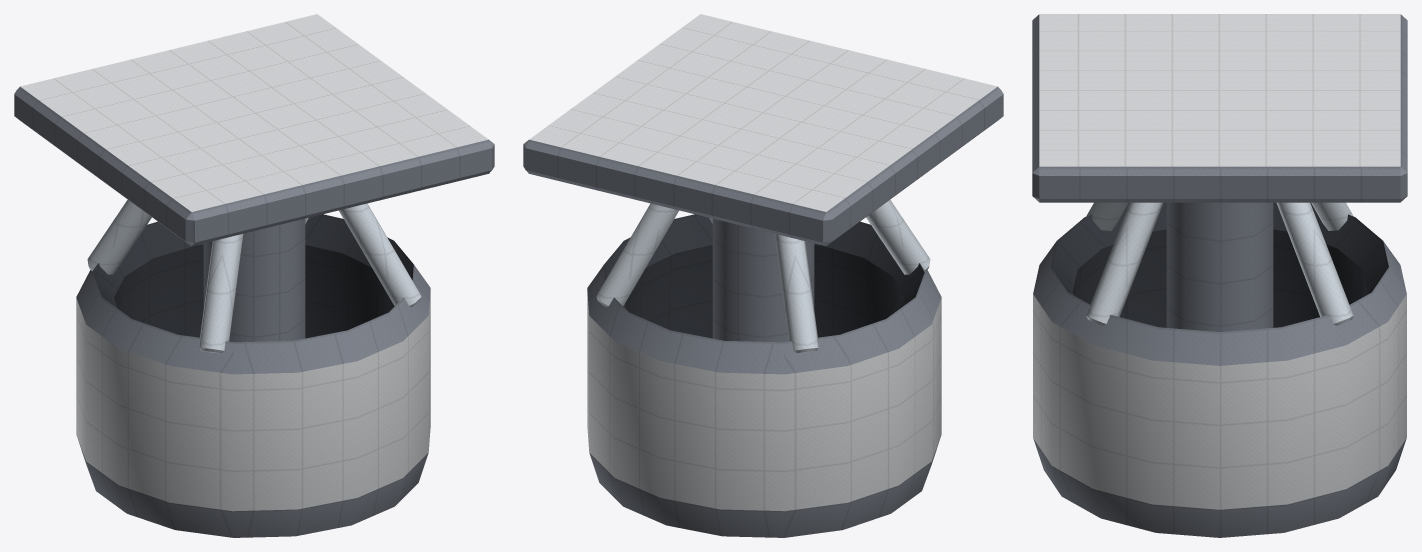
Rendered from R4M_HoverEngine_LOD1.glb.
3 views of the same model, side by side, from view 1: azimuth 30°, elevation 25°; view 2: azimuth 150°, elevation 25°; view 3: azimuth 270°, elevation 25° (orthographic). The views are drawn at different scales.
Visible parts, largest first — view 1: R4M_HoverEngine_LOD1; view 2: R4M_HoverEngine_LOD1; view 3: R4M_HoverEngine_LOD1.
Boxes of the visible parts, <box> form: R4M_HoverEngine_LOD1: <box>14,14,494,537</box>; R4M_HoverEngine_LOD1: <box>523,14,1003,537</box>; R4M_HoverEngine_LOD1: <box>1032,14,1407,537</box>.
Size of the model in its own units: 0.52 by 0.577 by 0.52.
5 materials, 4 textured.
